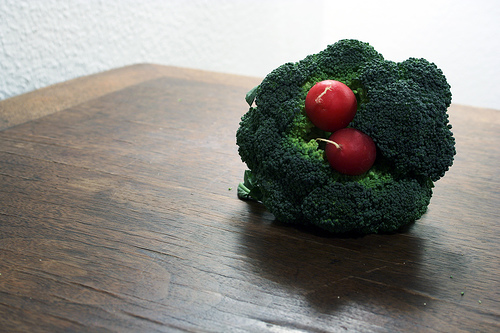broccoli: (234, 40, 454, 229)
